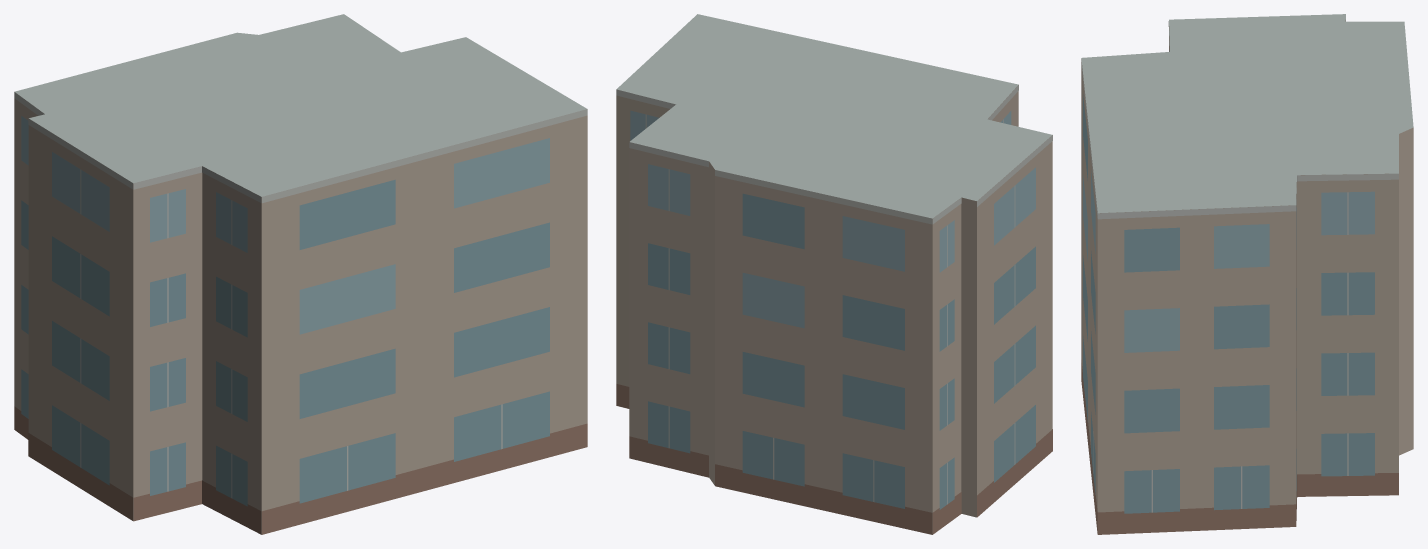
File: survey-upis-32633066.glb
3 renders of one model, left to right at view 1: azimuth 30°, elevation 25°; view 2: azimuth 150°, elevation 25°; view 3: azimuth 270°, elevation 25°, orthographic. The views are drawn at different scales.
Parts seen in each view (by area): view 1: survey-upis-32633066.tmp; view 2: survey-upis-32633066.tmp; view 3: survey-upis-32633066.tmp.
Boxes of the visible parts, x1,y1,x2,y2 form: survey-upis-32633066.tmp: (14,14,587,534); survey-upis-32633066.tmp: (616,14,1052,534); survey-upis-32633066.tmp: (1081,14,1413,534).
Bounding box in the file's own units: 17.01 × 12.8 × 11.99.
